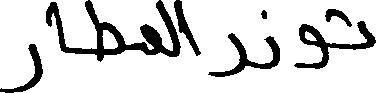X: (85, 0, 122, 66), (0, 39, 42, 92), (296, 6, 326, 73), (248, 5, 277, 73), (210, 28, 246, 81), (157, 0, 179, 61), (181, 0, 199, 60), (358, 16, 375, 53), (54, 0, 65, 57), (141, 19, 155, 59)
